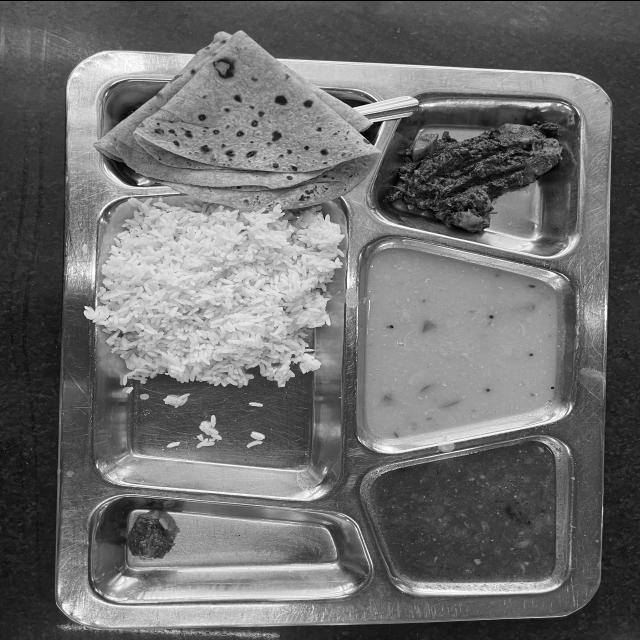100.0- Food Left: (72, 66, 588, 613)
